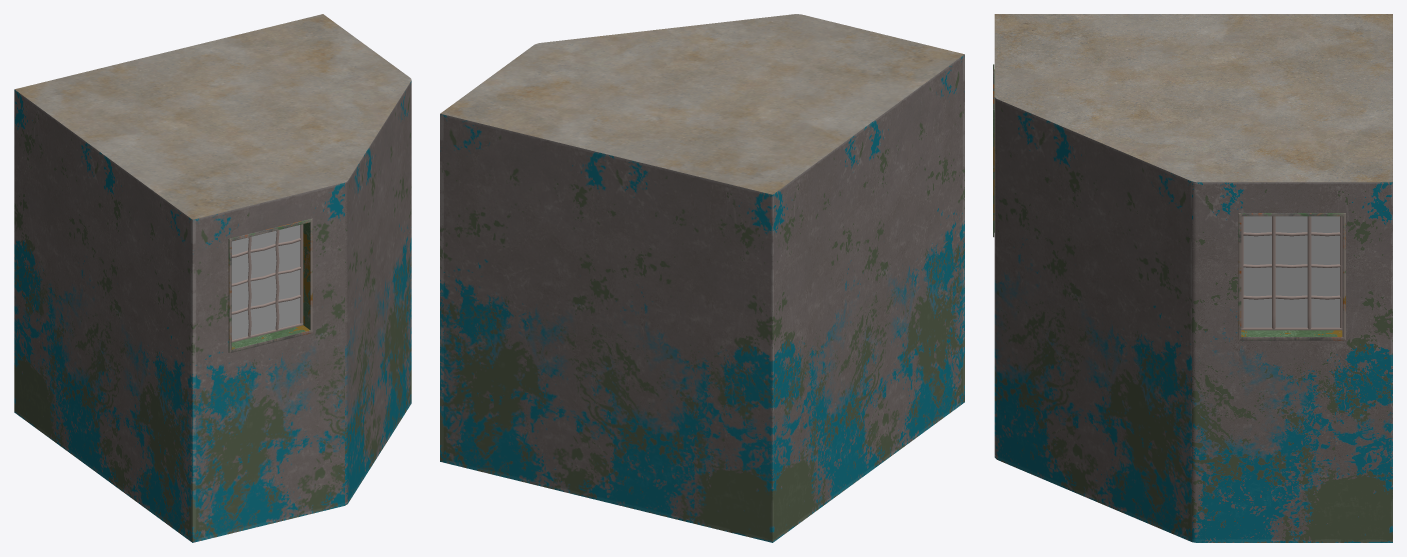
Rendered from SM_SlumHouseCorner_01.fbx.
3 renders of one model, left to right at view 1: azimuth 30°, elevation 25°; view 2: azimuth 150°, elevation 25°; view 3: azimuth 270°, elevation 25°, orthographic. The views are drawn at different scales.
Parts seen in each view (by area): view 1: slumhousecorner; view 2: slumhousecorner; view 3: slumhousecorner.
Boxes of the visible parts, box(x1,y1,x2,y2) form: slumhousecorner: box(14, 14, 411, 542); slumhousecorner: box(440, 14, 964, 542); slumhousecorner: box(993, 14, 1392, 542).
Size of the model in its own units: 501 by 500 by 502.
